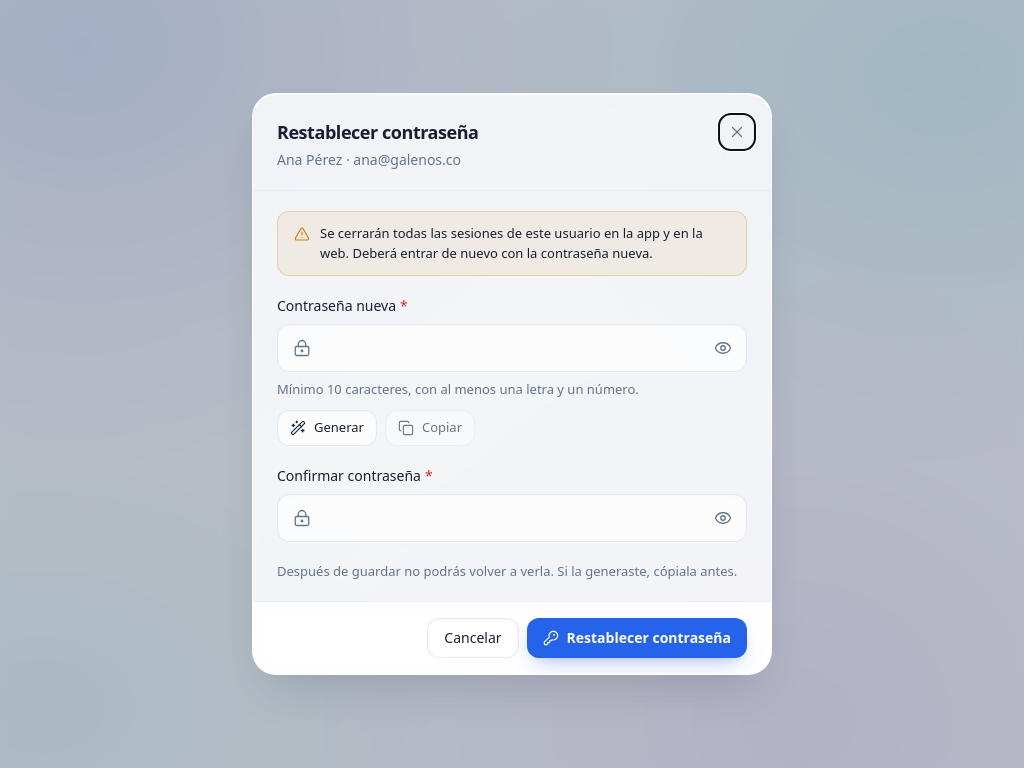
Test: DialogoRestablecerContrasena › "Generar" llena ambos campos con una contraseña válida y la deja visible
The width and height of the screenshot is (1024, 768).
Click the button "Generar" at (327, 428), box [277,410,377,446]
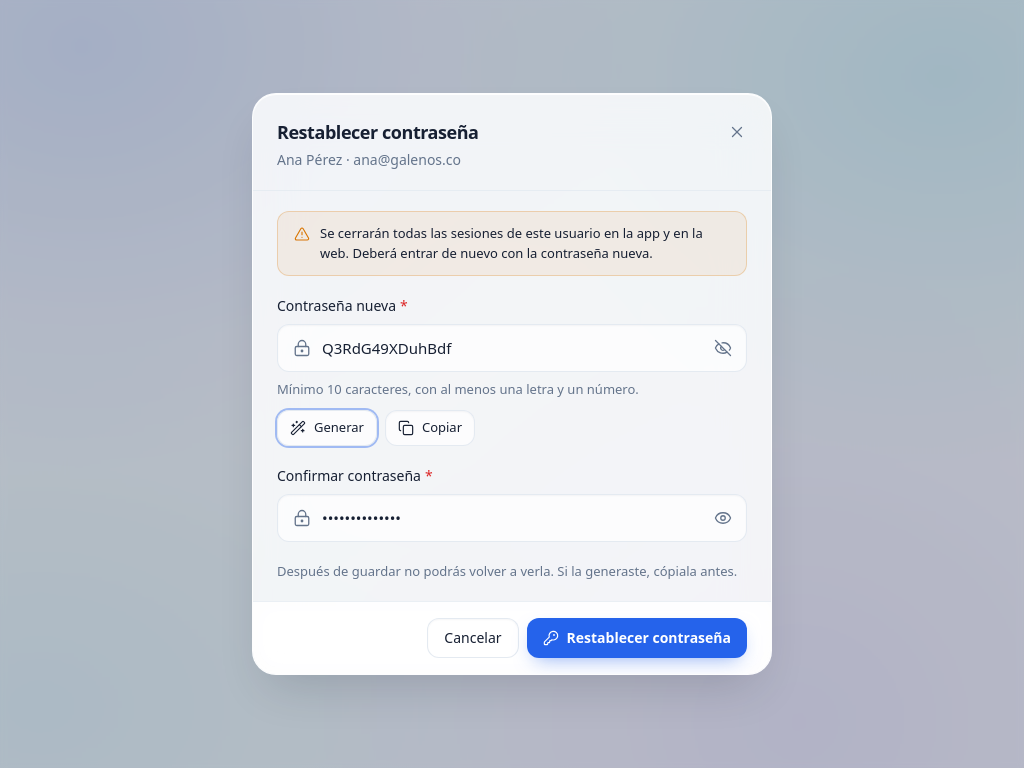
Check: the field labelled "Contraseña nueva" shows its text, box [277,324,747,372]
